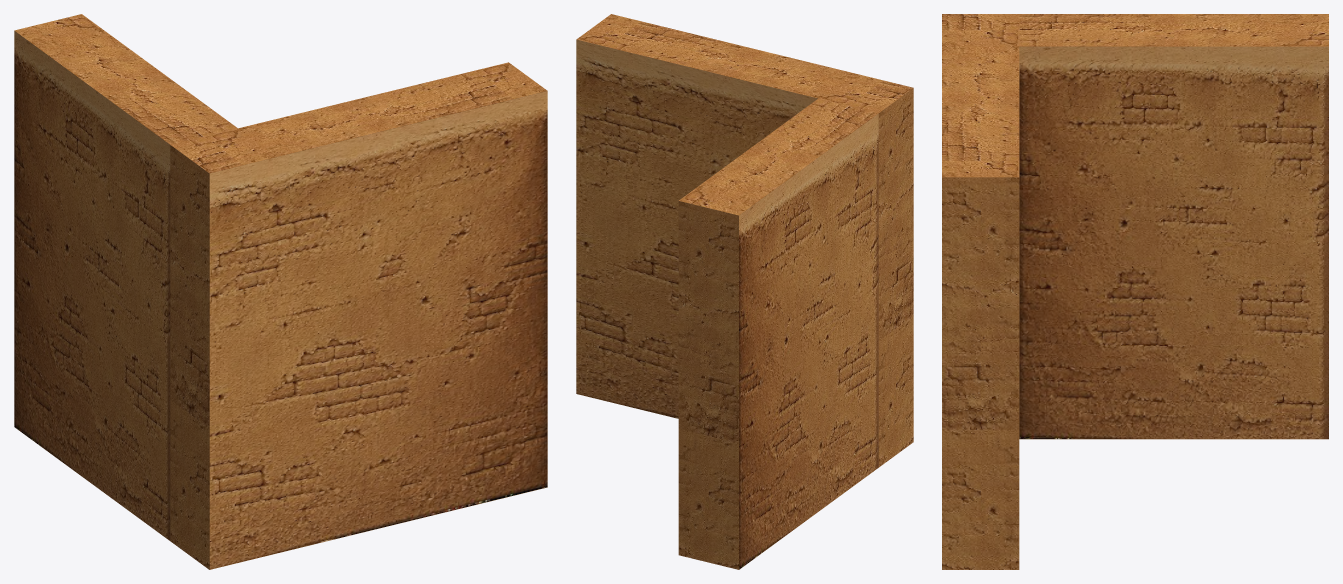
Rendered from wall_corner.glb.
3 renders of one model, left to right at view 1: azimuth 30°, elevation 25°; view 2: azimuth 150°, elevation 25°; view 3: azimuth 270°, elevation 25°, orthographic. The views are drawn at different scales.
Parts seen in each view (by area): view 1: CornerA, CornerB; view 2: CornerB, CornerA; view 3: CornerB, CornerA.
Part boxes in pixels (x1=…): CornerA: x1=170, y1=62, x2=547, y2=569; CornerB: x1=14, y1=14, x2=237, y2=540; CornerB: x1=678, y1=98, x2=878, y2=569; CornerA: x1=576, y1=14, x2=913, y2=467; CornerB: x1=1019, y1=14, x2=1328, y2=439; CornerA: x1=942, y1=14, x2=1019, y2=569.
Size of the model in its own units: 2.5 by 2.8 by 2.5.
Materials: 3 (3 with a texture image).
